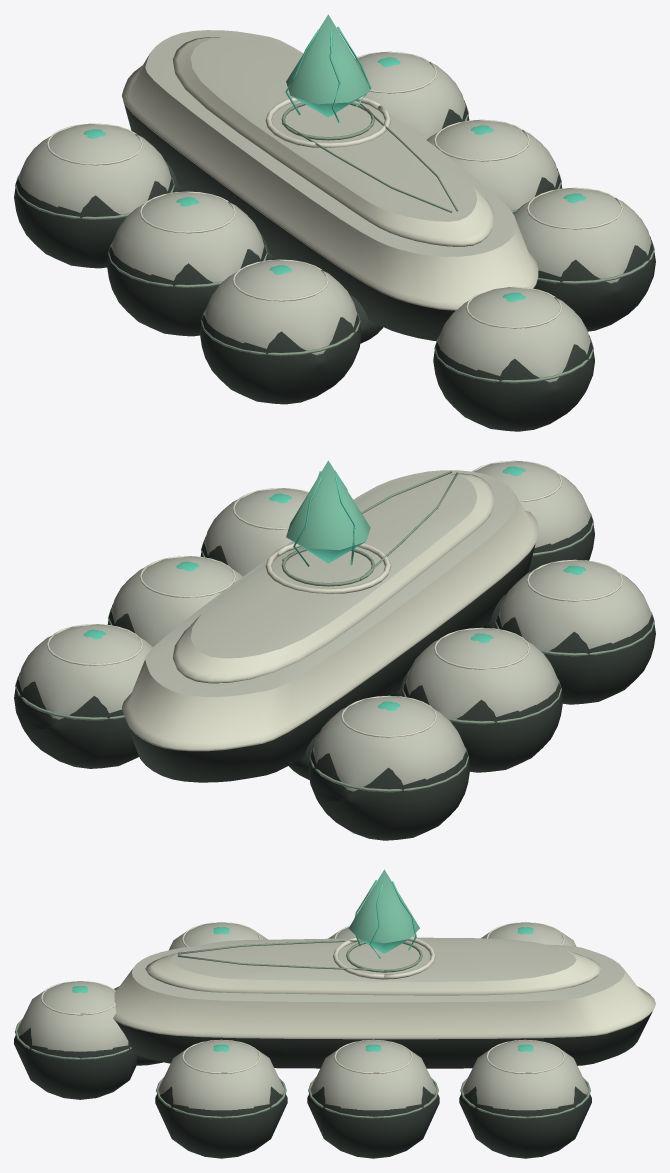
The model's file is NEA0401_source.obj.
The picture shows the model from 3 angles, top to bottom: view 1: azimuth 30°, elevation 25°; view 2: azimuth 150°, elevation 25°; view 3: azimuth 270°, elevation 25°; orthographic projection. The views are drawn at different scales.
Parts seen in each view (by area): view 1: NEA0401, Crystal; view 2: NEA0401, Crystal; view 3: NEA0401, Crystal.
Boxes of the visible parts, box(x1,y1,x2,y2) form: NEA0401: box(14, 30, 655, 431); Crystal: box(285, 14, 371, 123); NEA0401: box(14, 460, 655, 840); Crystal: box(286, 460, 370, 566); NEA0401: box(14, 922, 655, 1158); Crystal: box(348, 869, 419, 958).
Size of the model in its own units: 37.8 by 22.7 by 59.09.
1 material, 1 textured.
